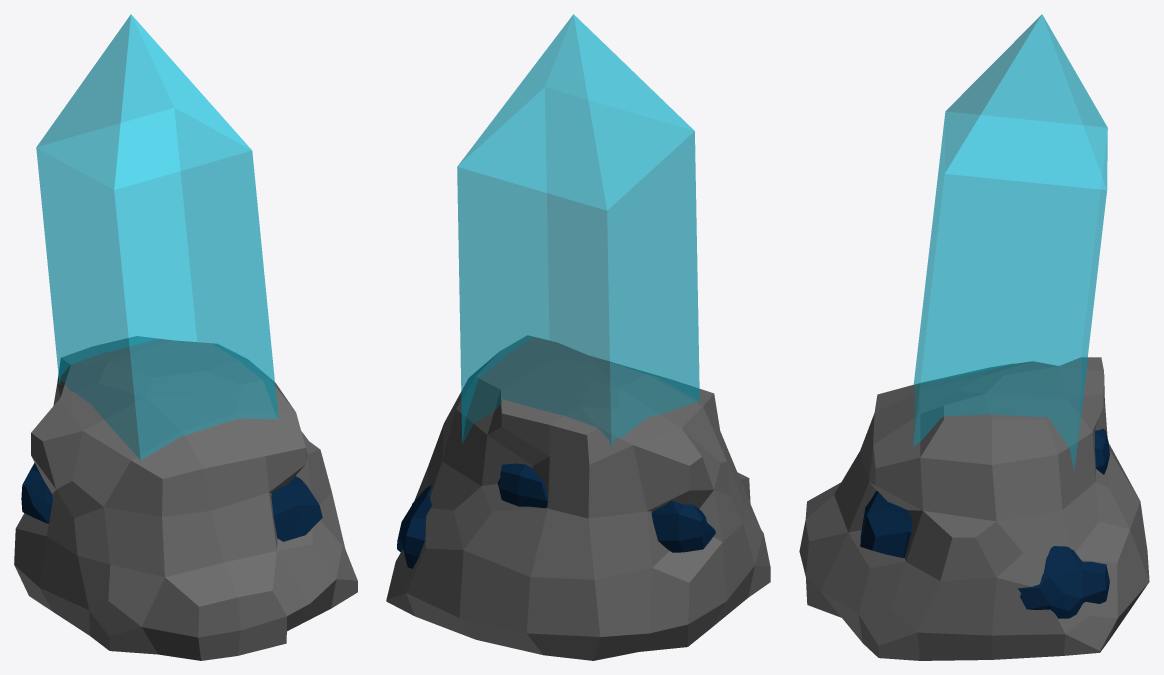
The model's file is OreCrystal.fbx.
The picture shows the model from 3 angles, left to right: view 1: azimuth 30°, elevation 25°; view 2: azimuth 150°, elevation 25°; view 3: azimuth 270°, elevation 25°; orthographic projection. The views are drawn at different scales.
Parts seen in each view (by area): view 1: Rock, Crystal; view 2: Rock, Crystal; view 3: Rock, Crystal.
Part boxes in pixels (box(x1,y1,x2,y2)): Rock: box(14, 336, 357, 660); Crystal: box(36, 14, 278, 460); Rock: box(386, 335, 770, 660); Crystal: box(457, 14, 699, 448); Rock: box(799, 357, 1149, 660); Crystal: box(913, 14, 1107, 471).
Bounding box in the file's own units: 167 × 329 × 179.
